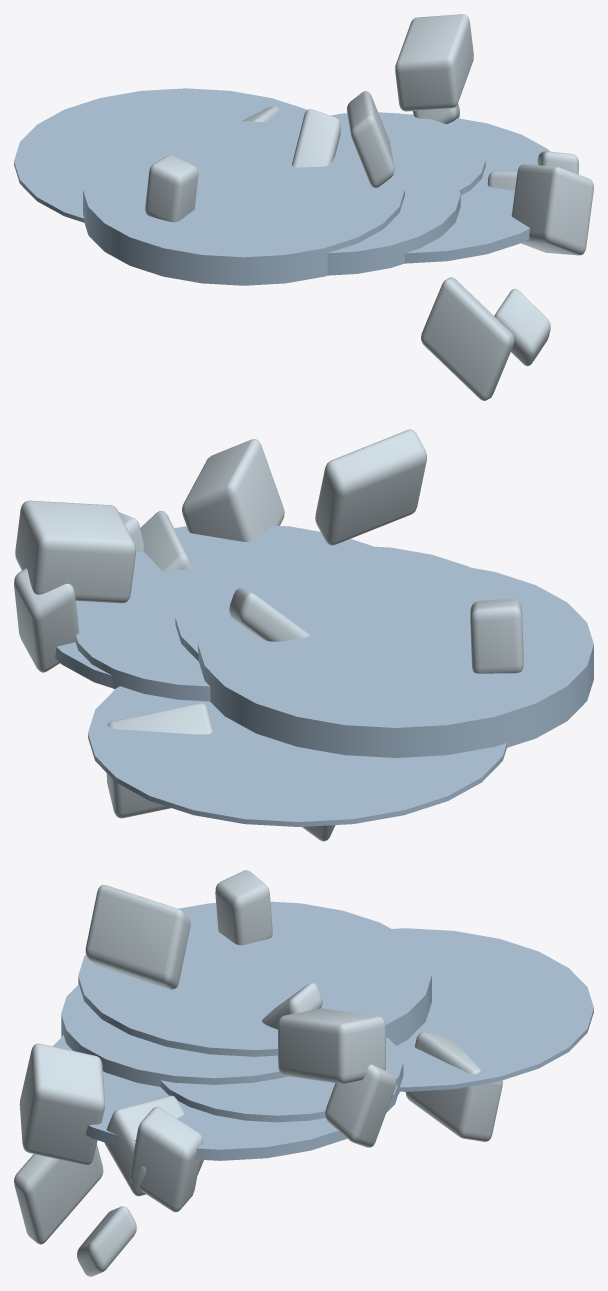
File: glass_dead.glb
The picture shows the model from 3 angles, top to bottom: view 1: azimuth 30°, elevation 25°; view 2: azimuth 150°, elevation 25°; view 3: azimuth 270°, elevation 25°; orthographic projection. The views are drawn at different scales.
Visible parts, largest first — view 1: Cylinder.009, Cylinder.005, Cylinder.006, Cylinder.008, Cube.023, Cube.016, Cube.017, Cylinder.007, Cube.021, Cube.022, Cube.019, Cube.014 (+3 smaller); view 2: Cylinder.009, Cylinder.005, Cylinder.007, Cube.016, Cube.022, Cube.017, Cylinder.008, Cylinder.006, Cube.020, Cube.021, Cube.018, Cube.014 (+1 smaller); view 3: Cylinder.009, Cylinder.005, Cube.017, Cylinder.008, Cylinder.006, Cube.022, Cube.016, Cylinder.007, Cube.013, Cube.023, Cube.018, Cube.020 (+4 smaller).
Boxes of the visible parts, x1,y1,x2,y2 form: Cylinder.009: [83, 121, 404, 285]; Cylinder.005: [14, 88, 307, 222]; Cylinder.006: [404, 114, 549, 263]; Cylinder.008: [327, 137, 460, 275]; Cube.023: [421, 277, 514, 400]; Cube.016: [395, 14, 473, 111]; Cube.017: [511, 164, 593, 255]; Cylinder.007: [294, 112, 485, 195]; Cube.021: [145, 155, 198, 222]; Cube.022: [347, 91, 394, 188]; Cube.019: [494, 288, 550, 366]; Cube.014: [292, 109, 340, 167]; Cylinder.009: [198, 560, 593, 757]; Cylinder.005: [88, 686, 506, 826]; Cylinder.007: [75, 568, 221, 701]; Cube.016: [15, 500, 135, 603]; Cube.022: [315, 429, 426, 545]; Cube.017: [182, 439, 284, 541]; Cylinder.008: [175, 545, 469, 660]; Cylinder.006: [55, 525, 373, 687]; Cube.020: [14, 568, 78, 672]; Cube.021: [470, 598, 523, 673]; Cube.018: [106, 703, 212, 818]; Cube.014: [229, 588, 309, 641]; Cylinder.009: [78, 901, 431, 1056]; Cylinder.005: [392, 928, 593, 1091]; Cube.017: [19, 1043, 104, 1165]; Cylinder.008: [61, 984, 287, 1086]; Cylinder.006: [53, 1035, 397, 1160]; Cube.022: [85, 885, 190, 989]; Cube.016: [278, 1008, 385, 1083]; Cylinder.007: [160, 1037, 403, 1122]; Cube.013: [129, 1106, 203, 1212]; Cube.023: [14, 1144, 103, 1244]; Cube.018: [405, 1032, 502, 1141]; Cube.020: [325, 1064, 395, 1147].
Size of the model in its own units: 2.25 by 1.4 by 2.36.
